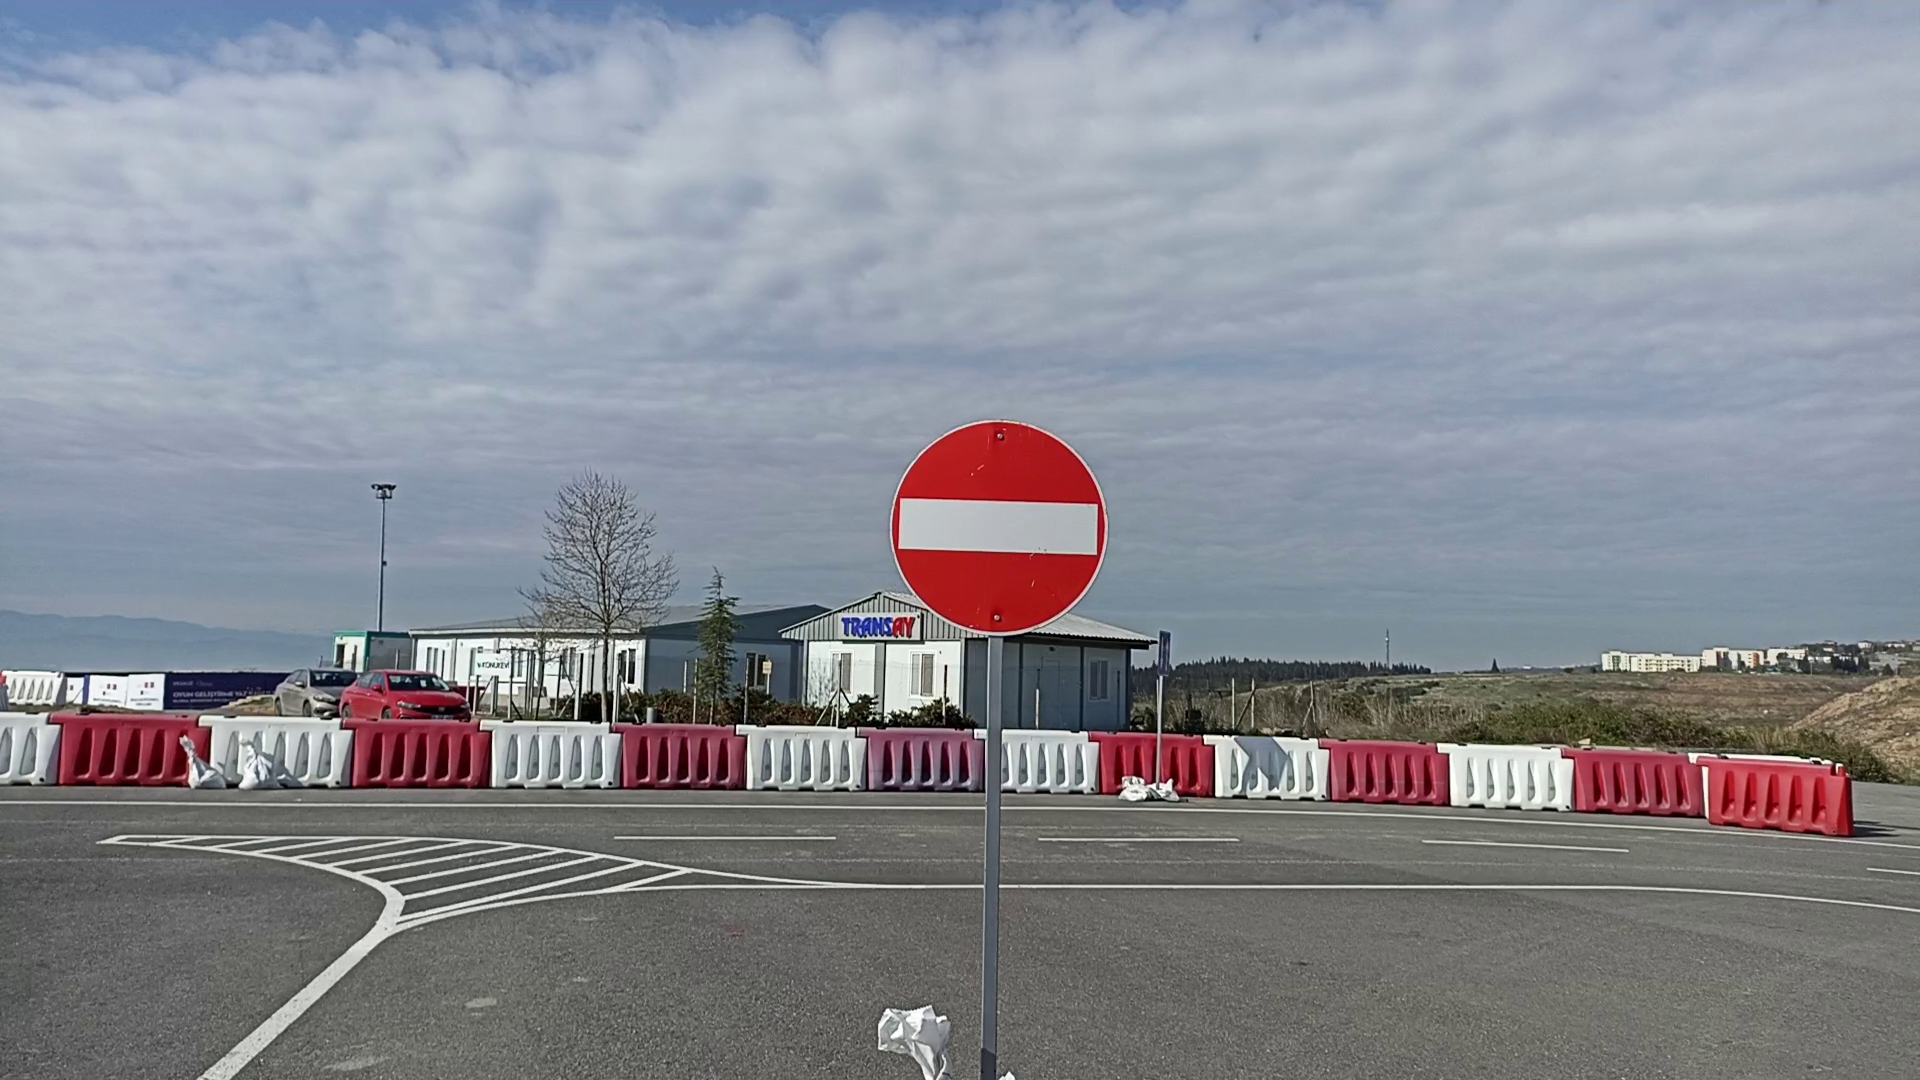noentryway: (884, 411, 1113, 640)
